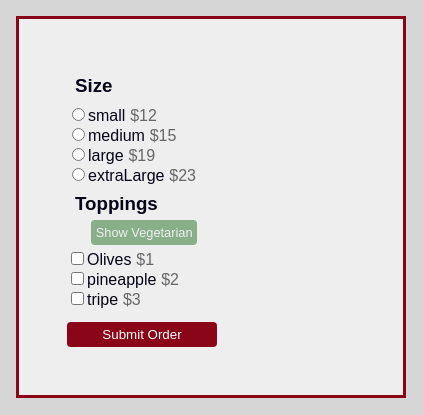
Pizza Order App › order submit button › enables when a size is selected
The width and height of the screenshot is (423, 415).
Click the radio button labelled "medium" at (78, 134), box [72,128,85,141]
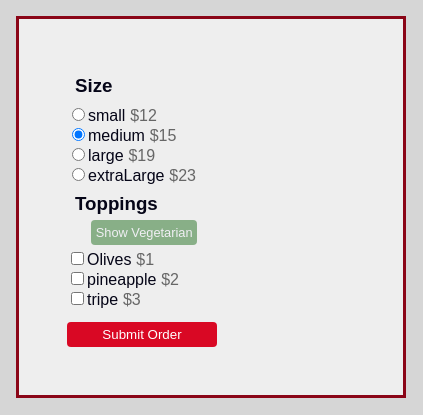
Expected: the button "Submit Order" is enabled, [67,322,217,347]
